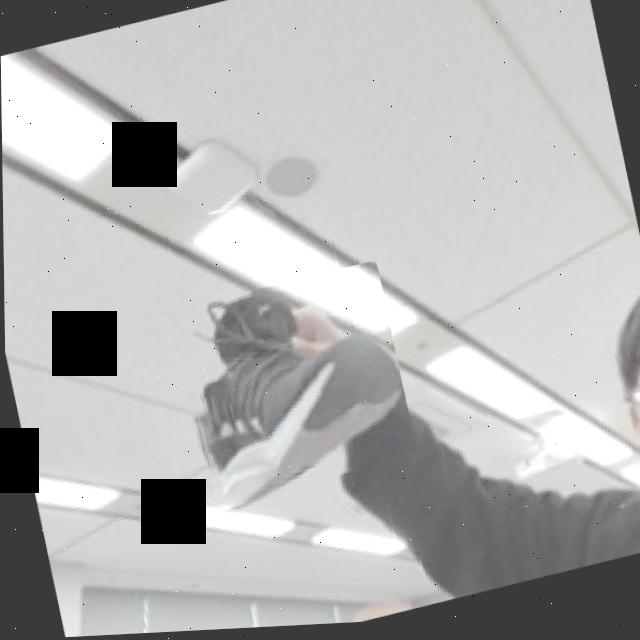shoe: (169, 263, 418, 517)
